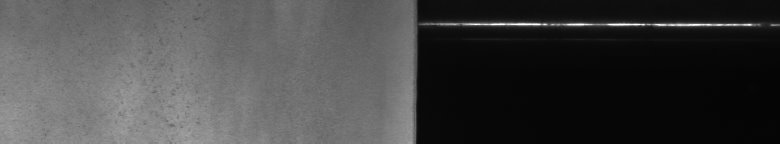ib: (119, 4, 203, 128)
